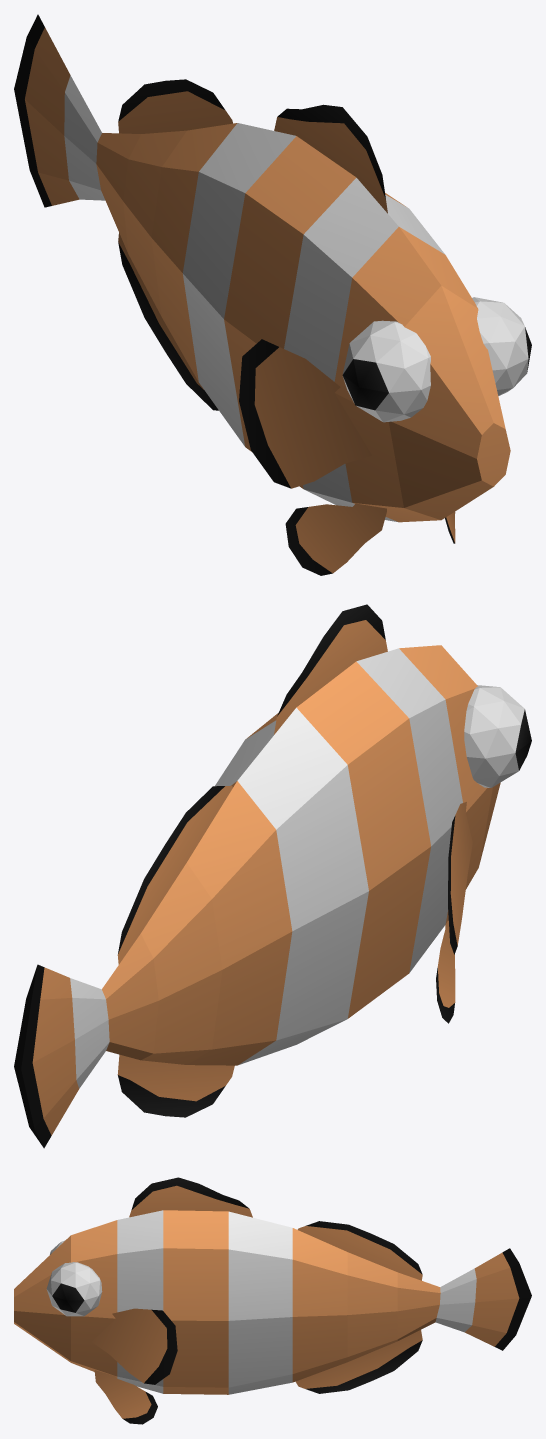
Rendered from clown_fish.glb.
3 views of the same model, one above another, from view 1: azimuth 30°, elevation 25°; view 2: azimuth 150°, elevation 25°; view 3: azimuth 270°, elevation 25° (orthographic). The views are drawn at different scales.
Visible parts, largest first — view 1: clown_fish_merged; view 2: clown_fish_merged; view 3: clown_fish_merged.
Part boxes in pixels (box(x1,y1,x2,y2)): clown_fish_merged: box(14, 14, 531, 575); clown_fish_merged: box(14, 604, 531, 1148); clown_fish_merged: box(14, 1177, 531, 1424).
Size of the model in its own units: 0.9801 by 1.88 by 3.87.
Materials: 6 (6 with a texture image).
